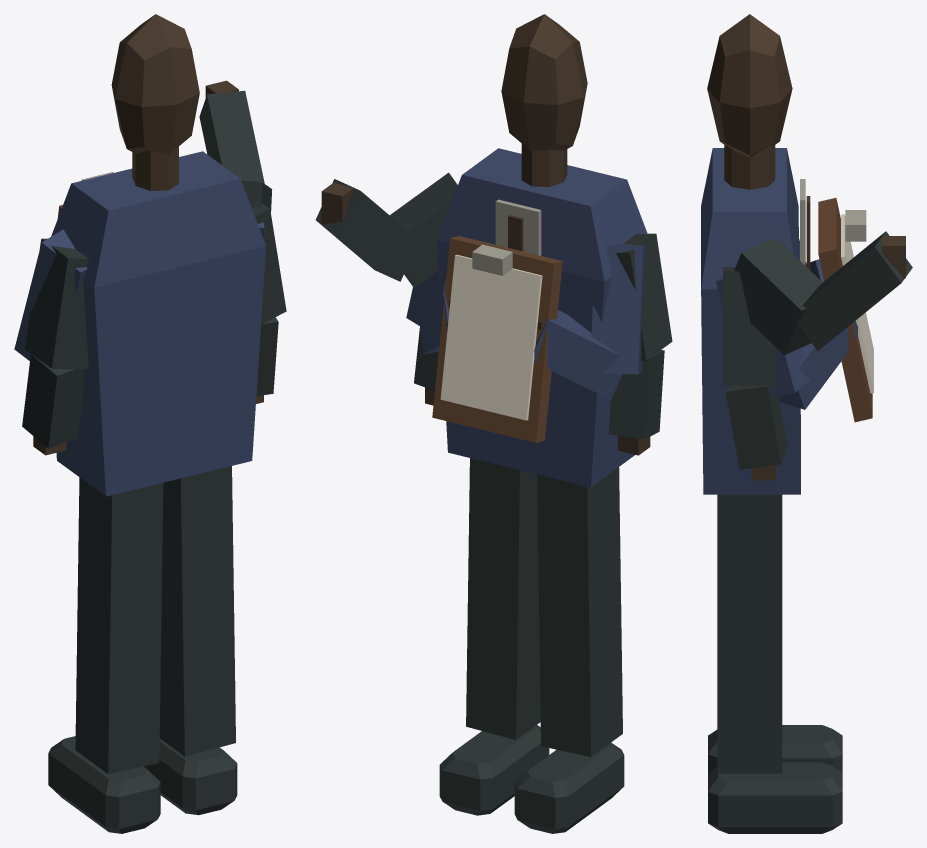
The model's file is R10_Inspector_Figure.fbx.
3 renders of one model, left to right at view 1: azimuth 30°, elevation 25°; view 2: azimuth 150°, elevation 25°; view 3: azimuth 270°, elevation 25°, orthographic. The views are drawn at different scales.
Visible parts, largest first — view 1: Person_Clipboard, Person_Point, Person_Stand; view 2: Person_Clipboard, Person_Point, Person_Stand; view 3: Person_Clipboard, Person_Point, Person_Stand.
Boxes of the visible parts, left/top/right/bottom form: Person_Clipboard: left=14, top=14, right=265, bottom=833; Person_Point: left=22, top=80, right=272, bottom=455; Person_Stand: left=251, top=203, right=286, bottom=403; Person_Clipboard: left=406, top=14, right=647, bottom=833; Person_Point: left=315, top=172, right=672, bottom=455; Person_Stand: left=414, top=327, right=438, bottom=405; Person_Clipboard: left=701, top=14, right=873, bottom=833; Person_Point: left=734, top=231, right=912, bottom=355; Person_Stand: left=723, top=267, right=787, bottom=480.
Size of the model in its own units: 0.6 by 1.65 by 0.4.
